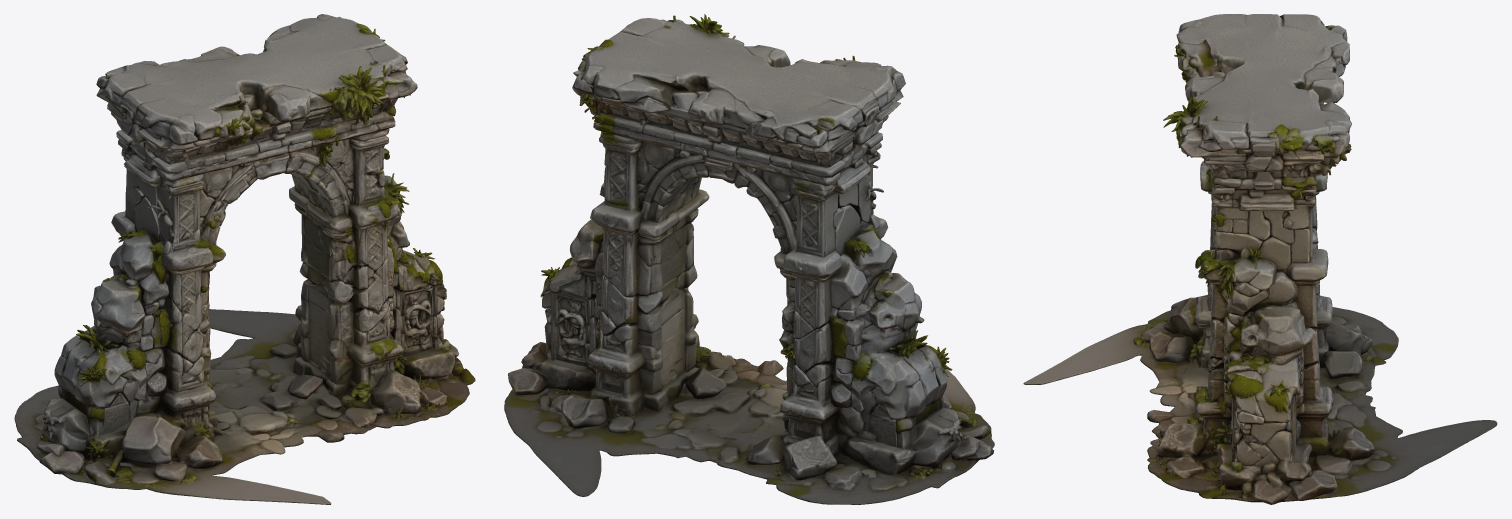
Rendered from b612-gate-moss.glb.
The picture shows the model from 3 angles, left to right: view 1: azimuth 30°, elevation 25°; view 2: azimuth 150°, elevation 25°; view 3: azimuth 270°, elevation 25°; orthographic projection. The views are drawn at different scales.
Parts seen in each view (by area): view 1: tripo_node_7554d447_tripo_mat_7554d447_0; view 2: tripo_node_7554d447_tripo_mat_7554d447_0; view 3: tripo_node_7554d447_tripo_mat_7554d447_0.
Boxes of the visible parts, <box> form: tripo_node_7554d447_tripo_mat_7554d447_0: <box>14,14,475,504</box>; tripo_node_7554d447_tripo_mat_7554d447_0: <box>504,14,994,504</box>; tripo_node_7554d447_tripo_mat_7554d447_0: <box>1023,14,1497,504</box>.
Bounding box in the file's own units: 0.9794 × 0.744 × 0.9342.
Materials: 1 (1 with a texture image).
